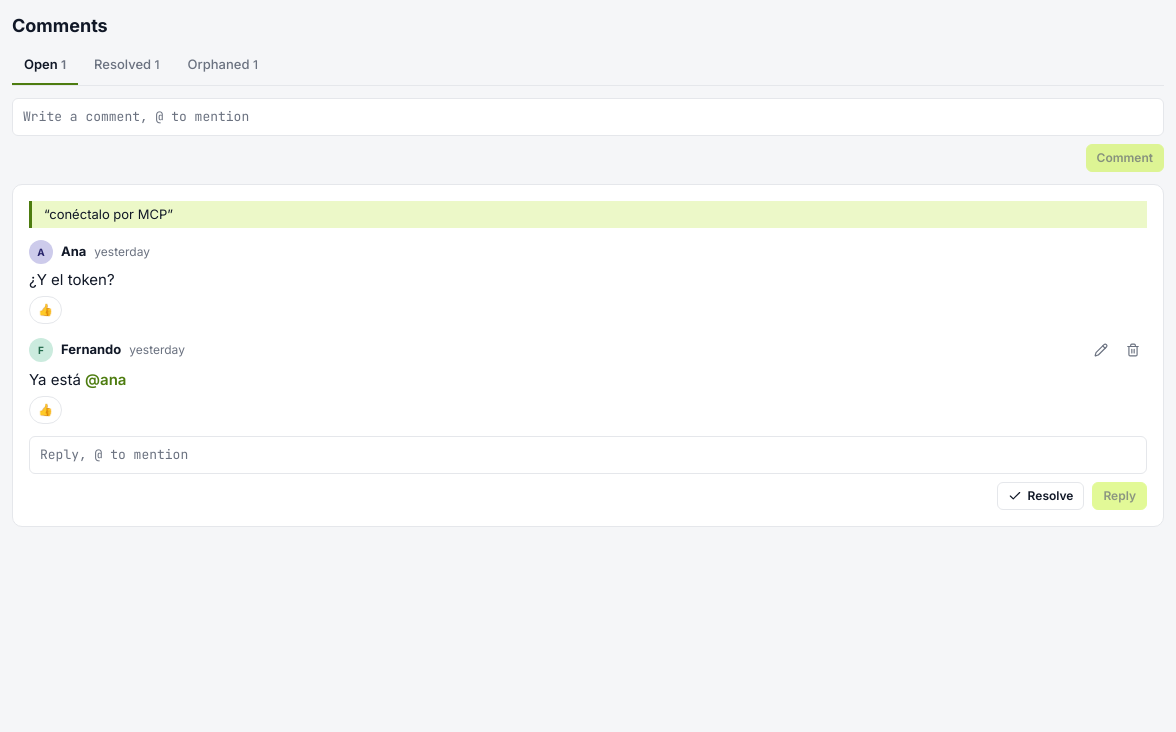
Scenario: CommentsPanel › filters open, orphaned and resolved threads
The width and height of the screenshot is (1176, 732).
Expected: the text "“conéctalo por MCP”" is shown, [29,201,1147,228]
Expected: the text "Huérfano" is not shown
Click the tab "Orphaned 1". click: x=223, y=66
box: [176,47,270,84]
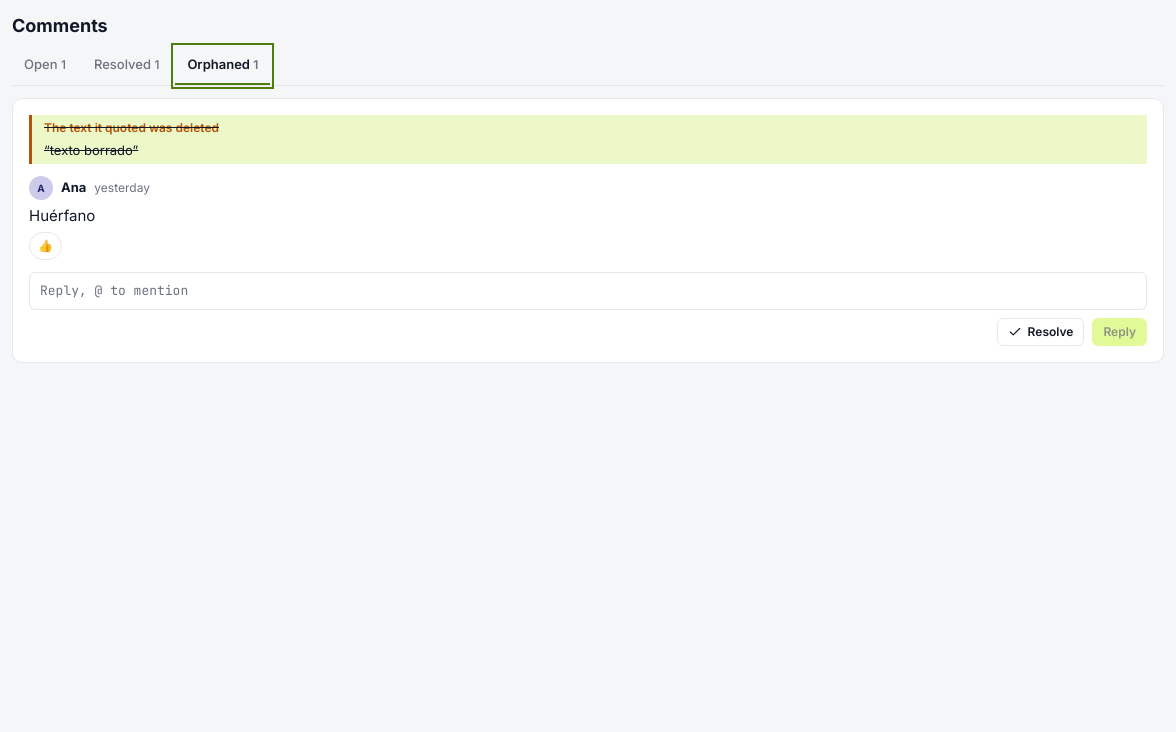
Result: the text "The text it quoted was deleted" is shown at [44,120,219,134]
Result: the text "Huérfano" is shown at [29,206,95,225]
Click the tab "Resolved 1". click: x=127, y=66
box: [82,47,171,84]
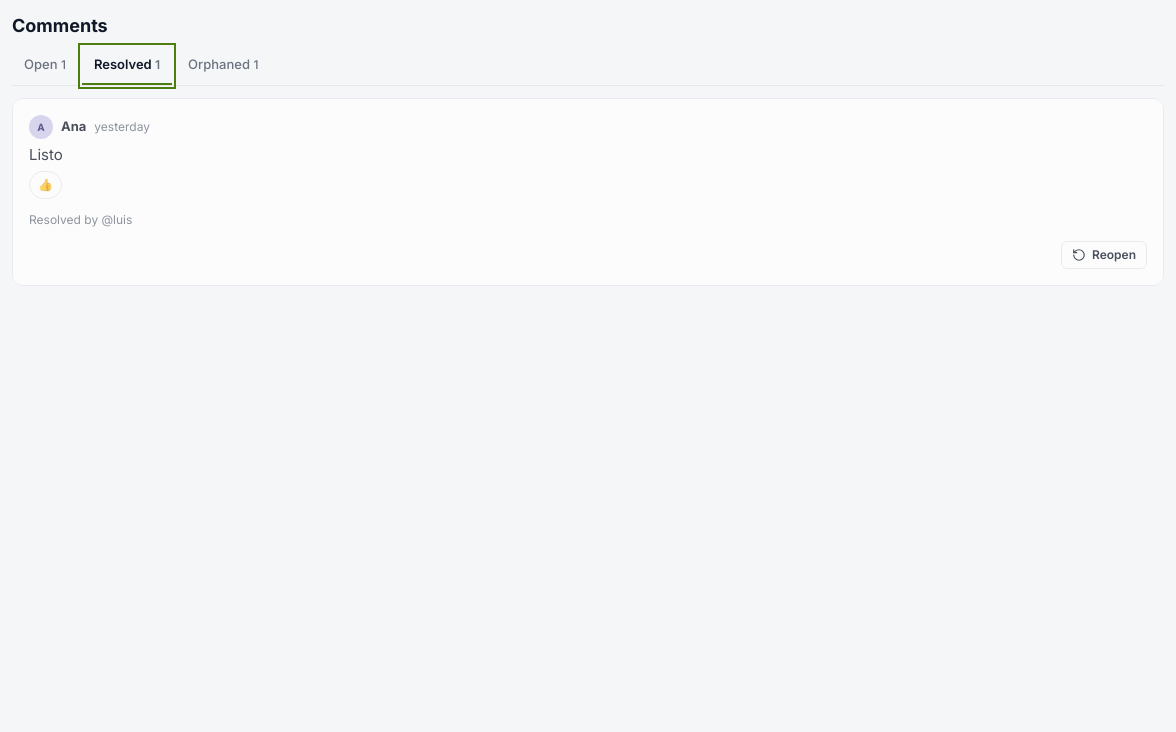
Result: the text "Resolved by @luis" is shown at [29,212,132,226]
Result: the button "Reopen" is shown at [1061,240,1147,268]
